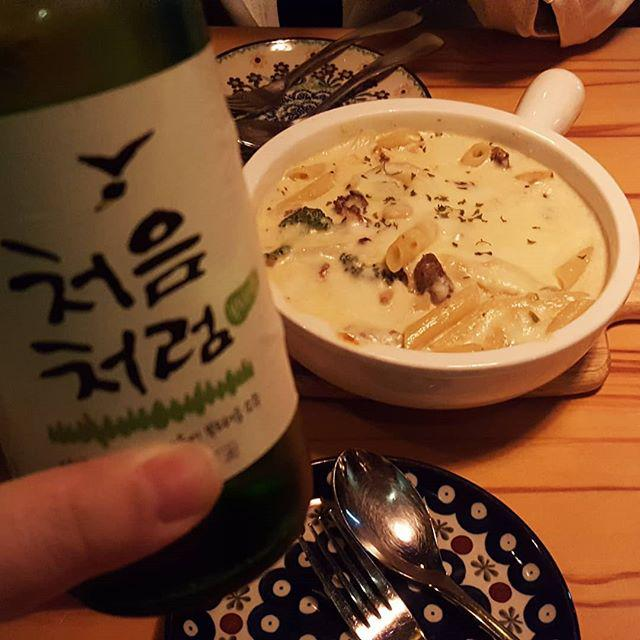soju: (2, 2, 316, 625)
